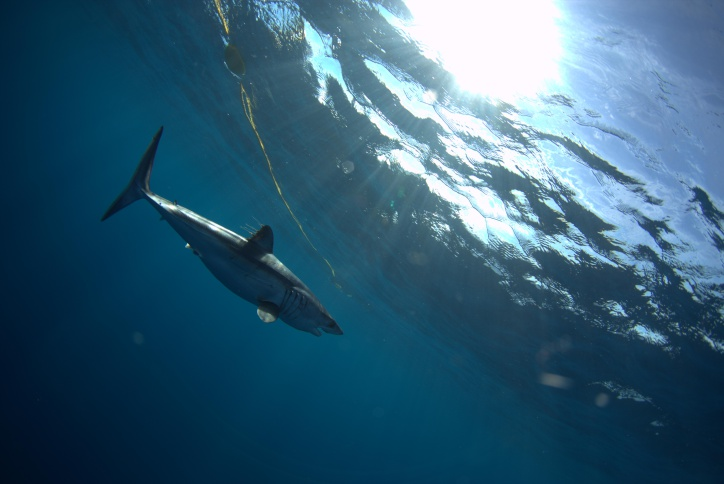Mako: (63, 108, 355, 350)
